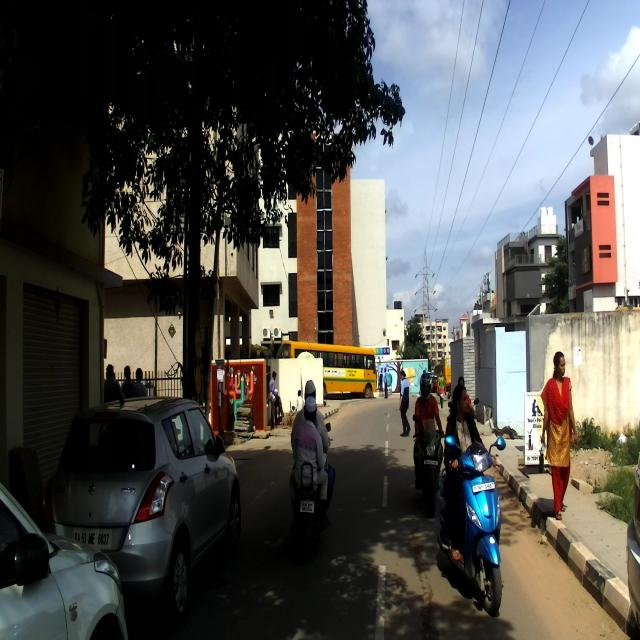Car_Maruti-Suzuki: (45, 395, 242, 630)
motorcycle_TVS: (286, 418, 337, 554)
scooter: (437, 431, 506, 618)
